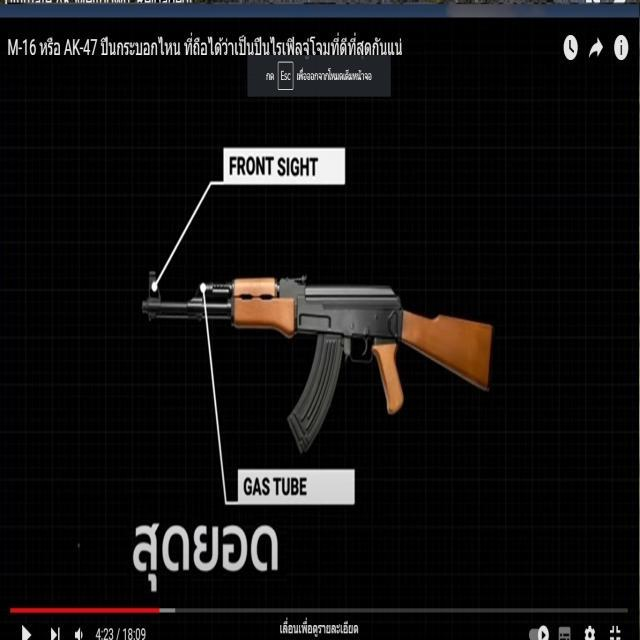ak: (141, 265, 494, 460)
